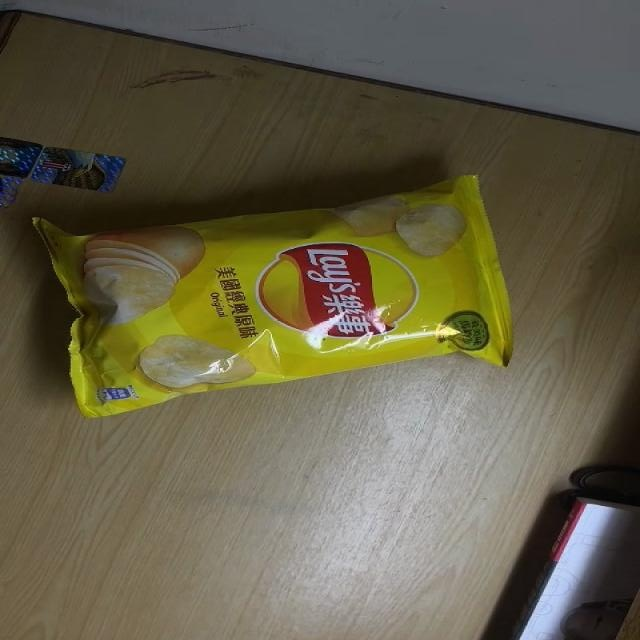Lay-s-original: (27, 173, 516, 418)
